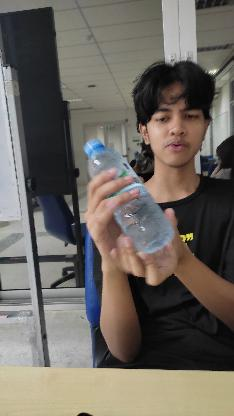Plastic Bottle: (81, 138, 176, 254)
